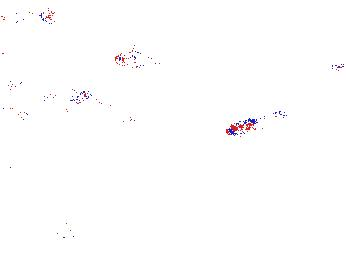X-ray fish: (25, 40, 74, 75), (56, 219, 90, 241), (105, 112, 137, 131)
glassfish: (14, 85, 98, 125)
red belly glassfish: (225, 107, 281, 138), (113, 50, 157, 66), (312, 60, 346, 74)
